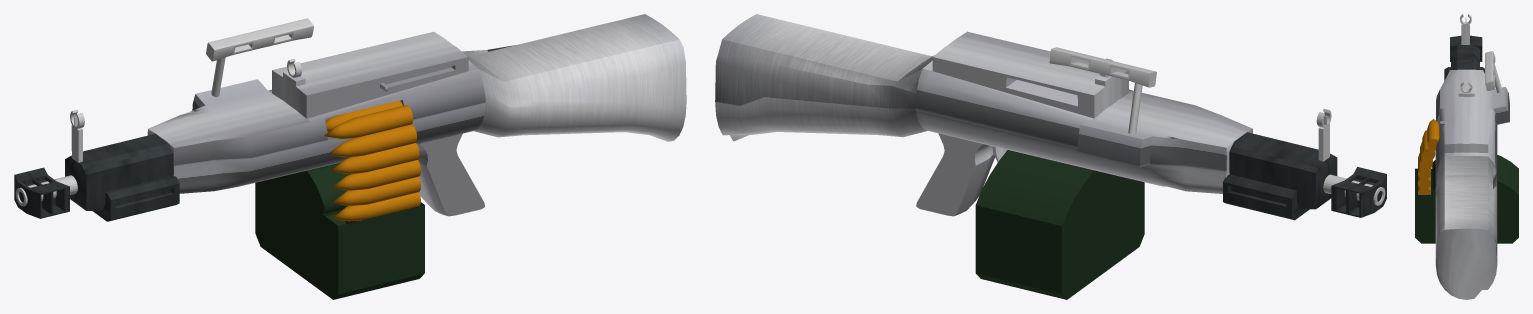
Rendered from HeavyMG.fbx.
3 views of the same model, side by side, from view 1: azimuth 30°, elevation 25°; view 2: azimuth 150°, elevation 25°; view 3: azimuth 270°, elevation 25° (orthographic). The views are drawn at different scales.
Visible parts, largest first — view 1: Cone001, Box001, Box004, Box002, Box003, Cone007, Cone006, Cone005, Cone004, Cone003, Cone002, Cone008 (+1 smaller); view 2: Cone001, Box001, Box004, Box002, Box003, Object002, Cone010; view 3: Cone001, Box001, Box004, Box003, Cone007, Box002, Cone006, Cone005, Object001, Cone004, Cone003, Cone010 (+2 smaller).
Boxes of the visible parts, <box> form: Cone001: <box>147,14,686,216</box>; Box001: <box>255,162,424,299</box>; Box004: <box>65,133,179,221</box>; Box002: <box>14,167,69,218</box>; Box003: <box>206,18,313,61</box>; Cone007: <box>324,105,413,139</box>; Cone006: <box>328,124,416,157</box>; Cone005: <box>330,143,419,174</box>; Cone004: <box>332,160,420,190</box>; Cone003: <box>332,177,420,205</box>; Cone002: <box>332,192,420,221</box>; Cone008: <box>325,100,402,131</box>; Cone001: <box>715,14,1252,216</box>; Box001: <box>975,150,1144,299</box>; Box004: <box>1223,132,1337,220</box>; Box002: <box>1331,167,1386,217</box>; Box003: <box>1049,47,1156,87</box>; Object002: <box>1323,174,1385,205</box>; Cone010: <box>1128,83,1142,134</box>; Cone001: <box>1435,69,1509,299</box>; Box001: <box>1415,155,1518,243</box>; Box004: <box>1444,44,1484,80</box>; Box003: <box>1485,51,1495,90</box>; Cone007: <box>1427,119,1439,150</box>; Box002: <box>1450,35,1482,61</box>; Cone006: <box>1422,130,1435,159</box>; Cone005: <box>1420,142,1432,170</box>; Object001: <box>1461,24,1469,44</box>; Cone004: <box>1418,153,1430,179</box>; Cone003: <box>1418,175,1430,188</box>; Cone010: <box>1495,65,1502,92</box>.
Size of the model in its own units: 214 by 74.03 by 47.96.
